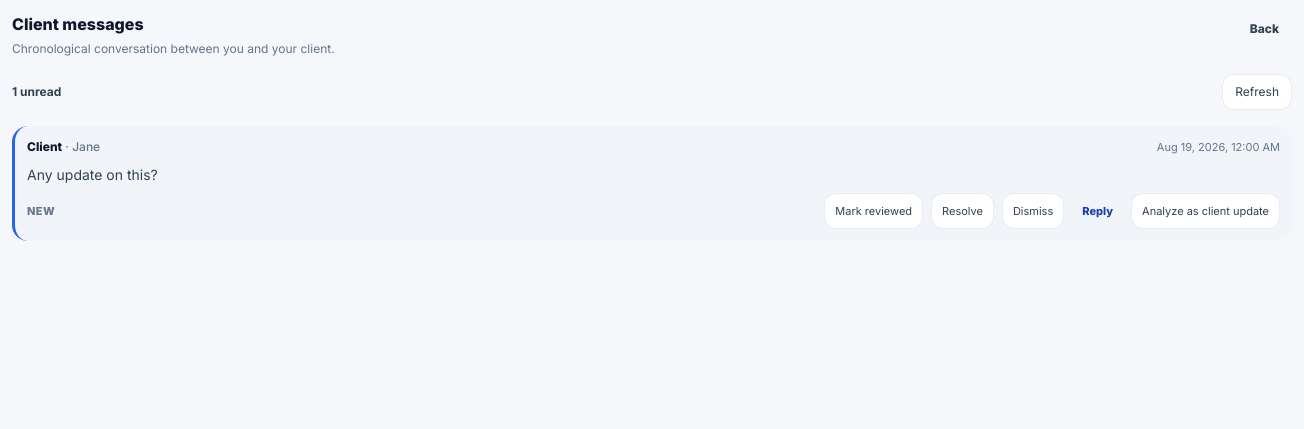
ClientCommunicationHistoryModal - reply UX › 59. a successful reply refreshes the history (a second GET is issued)
Expected: the text "Any update on this?" is shown, [27, 166, 158, 183]
Click the button "Reply": [1098, 211] box [1072, 193, 1123, 229]
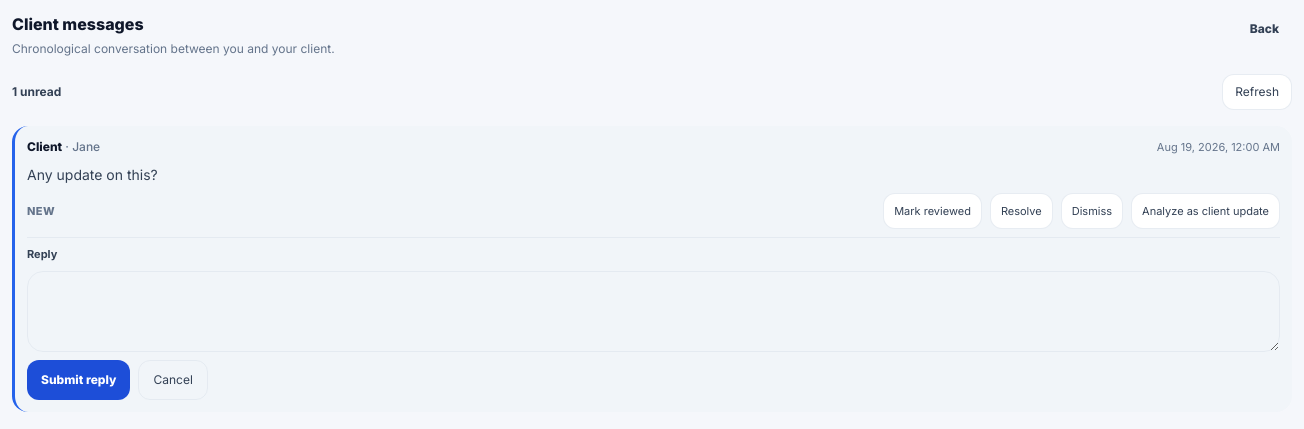
In the text box labelled "Reply": [654, 311] box [27, 270, 1280, 352], type "Thanks!"
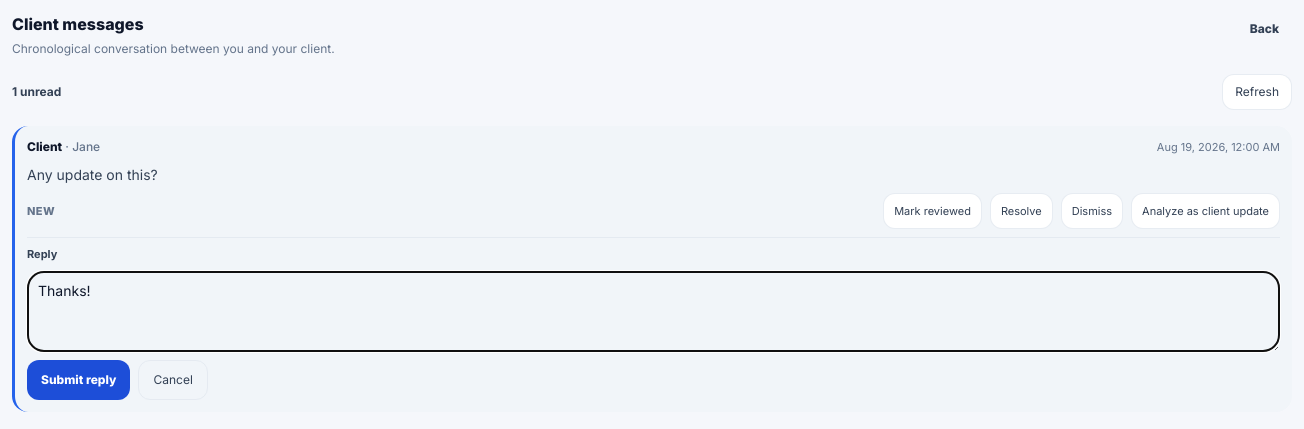
Click the button "Submit reply": [79, 380] box [27, 360, 130, 400]
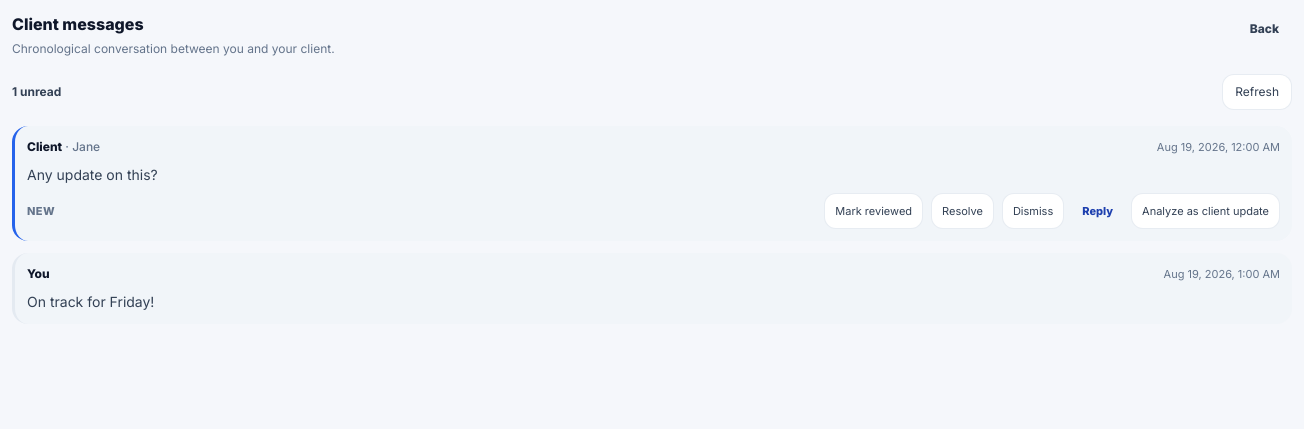
Expected: the text "On track for Friday!" is shown, [27, 293, 154, 310]
